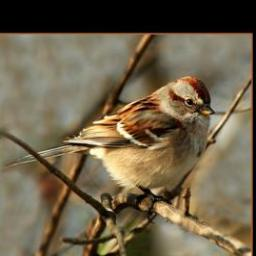Sparrow: (4, 75, 214, 226)
